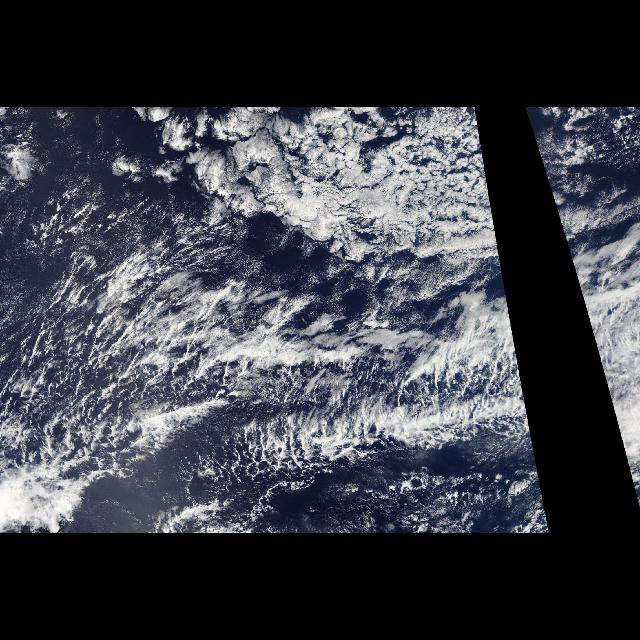Fish: (184, 362, 546, 522)
Gravel: (0, 309, 178, 431)
Sugar: (10, 193, 254, 283)
